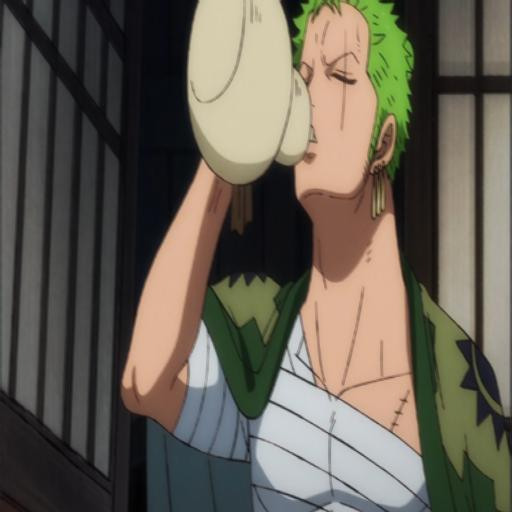Zoro: (160, 0, 500, 512)
